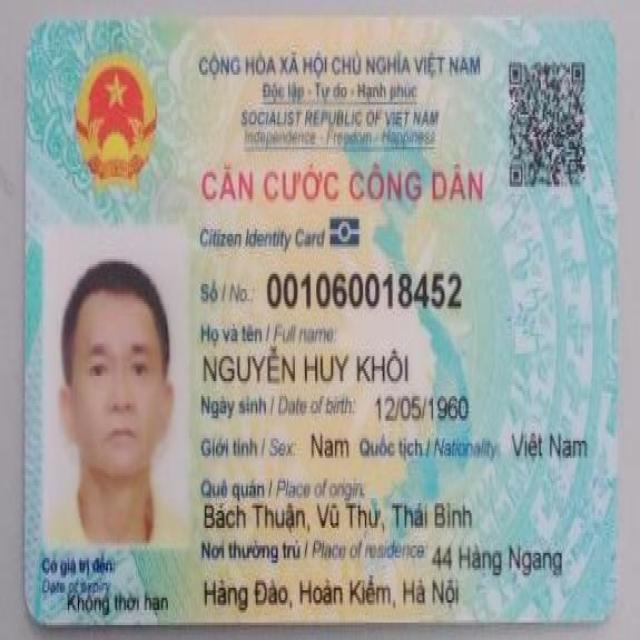current_place: (198, 572, 460, 616), (431, 539, 566, 581)
dob: (374, 390, 470, 426)
expire_date: (66, 586, 171, 616)
gender: (309, 425, 352, 465)
id: (266, 265, 465, 310)
name: (201, 340, 414, 388)
nationality: (508, 422, 590, 464)
origin_place: (202, 502, 475, 539)
